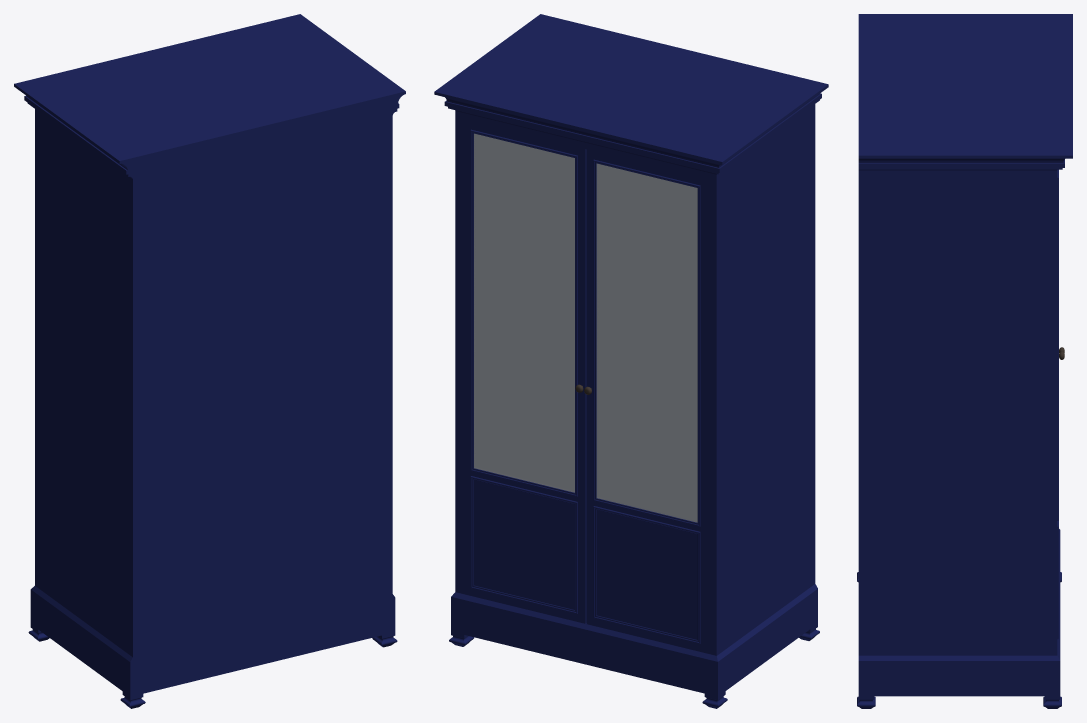
The picture shows the model from 3 angles, left to right: view 1: azimuth 30°, elevation 25°; view 2: azimuth 150°, elevation 25°; view 3: azimuth 270°, elevation 25°; orthographic projection.
Parts seen in each view (by area): view 1: mesh3_mesh3-geometry, mesh20_mesh20-geometry, mesh1_mesh1-geometry, mesh22_mesh22-geometry; view 2: mesh5_mesh5-geometry, mesh3_mesh3-geometry, mesh20_mesh20-geometry, mesh14_mesh14-geometry, mesh7_mesh7-geometry, mesh1_mesh1-geometry, mesh22_mesh22-geometry; view 3: mesh3_mesh3-geometry, mesh20_mesh20-geometry, mesh1_mesh1-geometry, mesh14_mesh14-geometry, mesh22_mesh22-geometry.
Part boxes in pixels (<box>): mesh3_mesh3-geometry: <box>35,114,392,657</box>; mesh20_mesh20-geometry: <box>14,14,405,185</box>; mesh1_mesh1-geometry: <box>30,586,395,696</box>; mesh22_mesh22-geometry: <box>28,624,397,708</box>; mesh5_mesh5-geometry: <box>474,133,697,522</box>; mesh3_mesh3-geometry: <box>455,109,815,655</box>; mesh20_mesh20-geometry: <box>434,14,828,180</box>; mesh14_mesh14-geometry: <box>463,119,586,623</box>; mesh7_mesh7-geometry: <box>586,149,708,653</box>; mesh1_mesh1-geometry: <box>451,584,817,696</box>; mesh22_mesh22-geometry: <box>449,624,819,708</box>; mesh3_mesh3-geometry: <box>858,177,1057,655</box>; mesh20_mesh20-geometry: <box>858,14,1072,177</box>; mesh1_mesh1-geometry: <box>858,529,1060,696</box>; mesh14_mesh14-geometry: <box>1057,169,1058,639</box>; mesh22_mesh22-geometry: <box>857,572,1061,708</box>.
Bounding box in the file's own units: 0.456 × 0.8402 × 0.2934.
